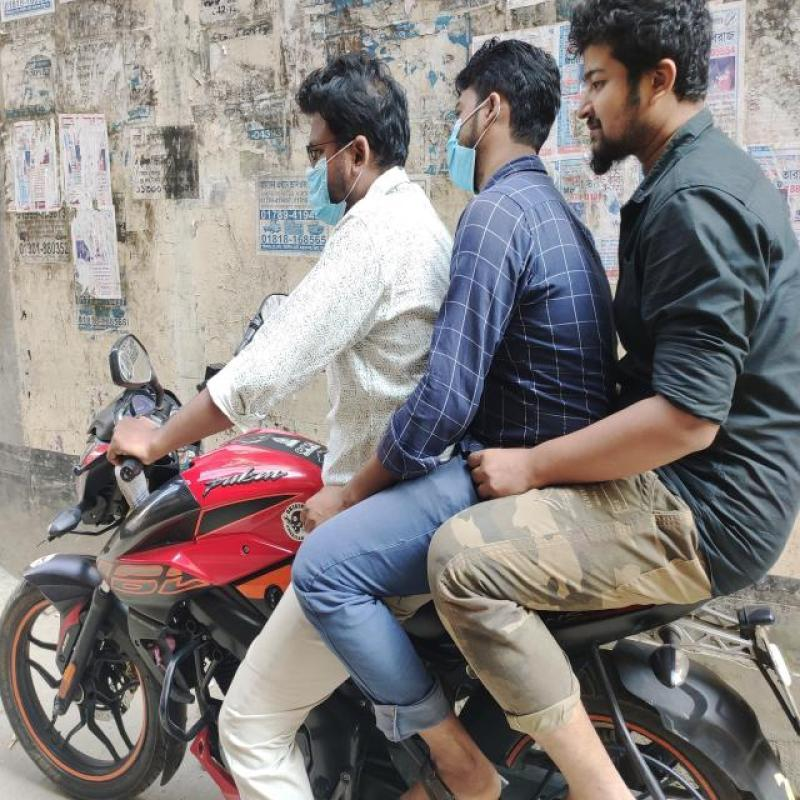nohelmet: (563, 0, 698, 165), (292, 55, 410, 216), (442, 29, 534, 182)
